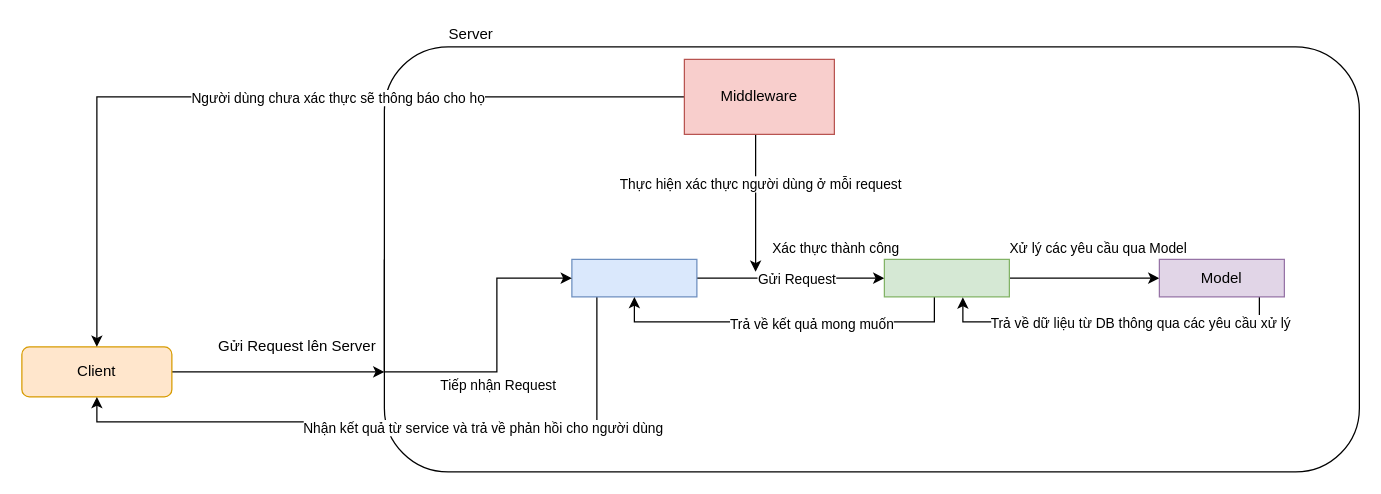
Some shapes in this 1381 by 494 pixel diagram are drawn without their labels. The centre of each missing label's shape, as x and y in pixels:
Controller: the point at 634,277
Service: the point at 946,277
